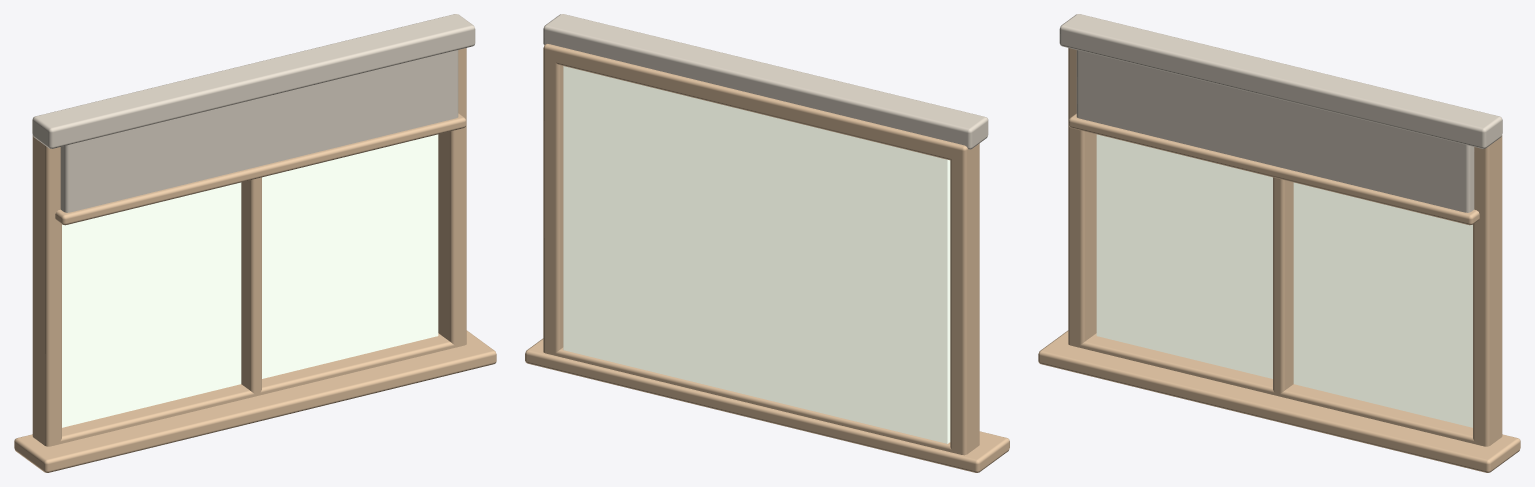
The model's file is suite_window_study.glb.
3 views of the same model, side by side, from view 1: azimuth 30°, elevation 25°; view 2: azimuth 150°, elevation 25°; view 3: azimuth 330°, elevation 25° (orthographic).
Bounding box in the file's own units: 2.46 × 1.75 × 0.31.
